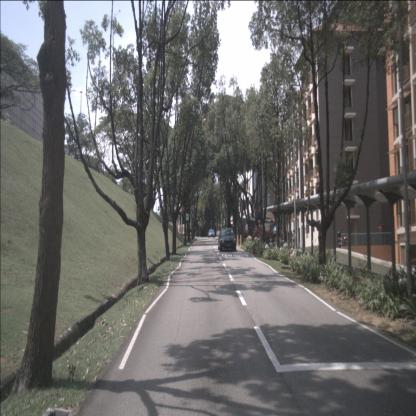human-pedestrian-adult: (270, 220, 274, 242), (292, 229, 296, 250), (273, 223, 277, 242), (284, 226, 287, 247)
vehicle-car: (218, 228, 236, 251), (208, 229, 215, 238)
vehicle-motorcycle: (337, 231, 350, 249)
